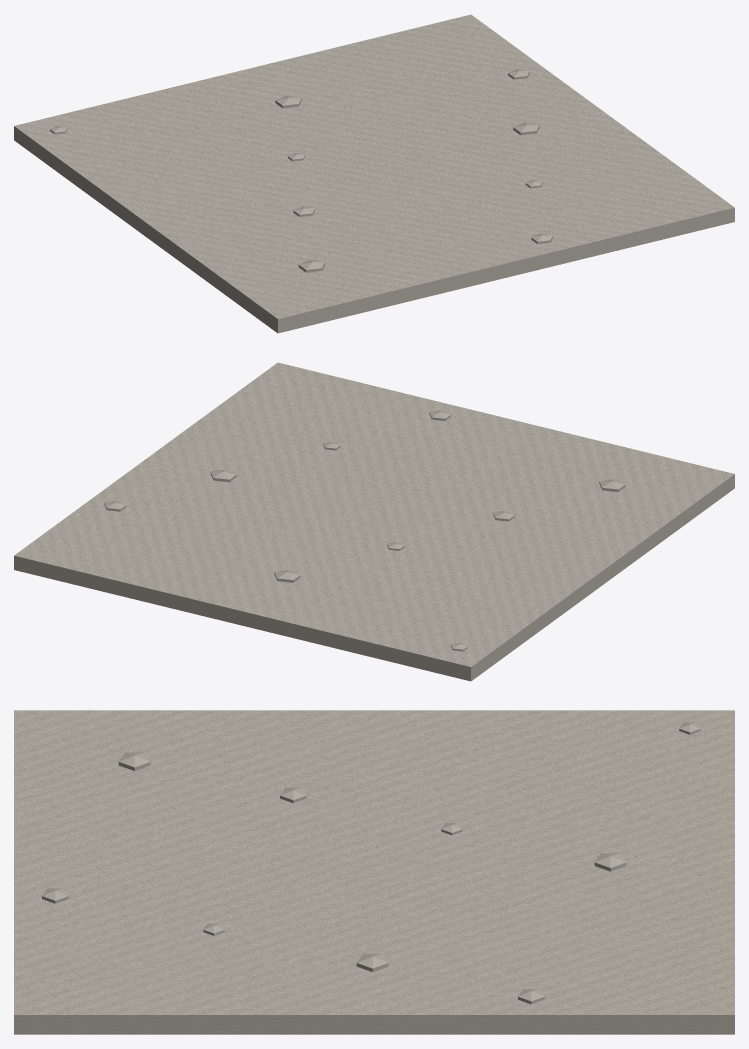
Rendered from gravel-yard-module.glb.
3 views of the same model, one above another, from view 1: azimuth 30°, elevation 25°; view 2: azimuth 150°, elevation 25°; view 3: azimuth 270°, elevation 25° (orthographic). The views are drawn at different scales.
Visible parts, largest first — view 1: gravel-yard-module-gravel; view 2: gravel-yard-module-gravel; view 3: gravel-yard-module-gravel.
Part boxes in pixels (bbox=[...]): gravel-yard-module-gravel: bbox=[14, 14, 734, 333]; gravel-yard-module-gravel: bbox=[14, 362, 734, 681]; gravel-yard-module-gravel: bbox=[14, 710, 734, 1034].
Size of the model in its own units: 4 by 0.165 by 4.
Materials: 1 (1 with a texture image).
